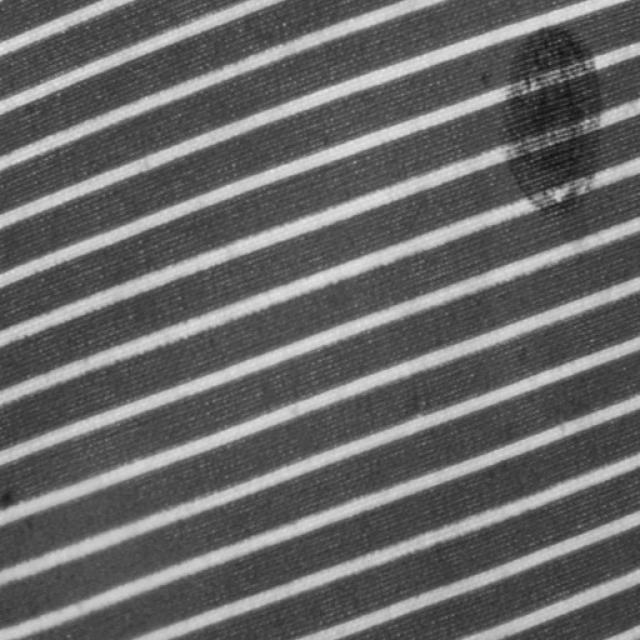Stain-Defect: (502, 25, 602, 215)
